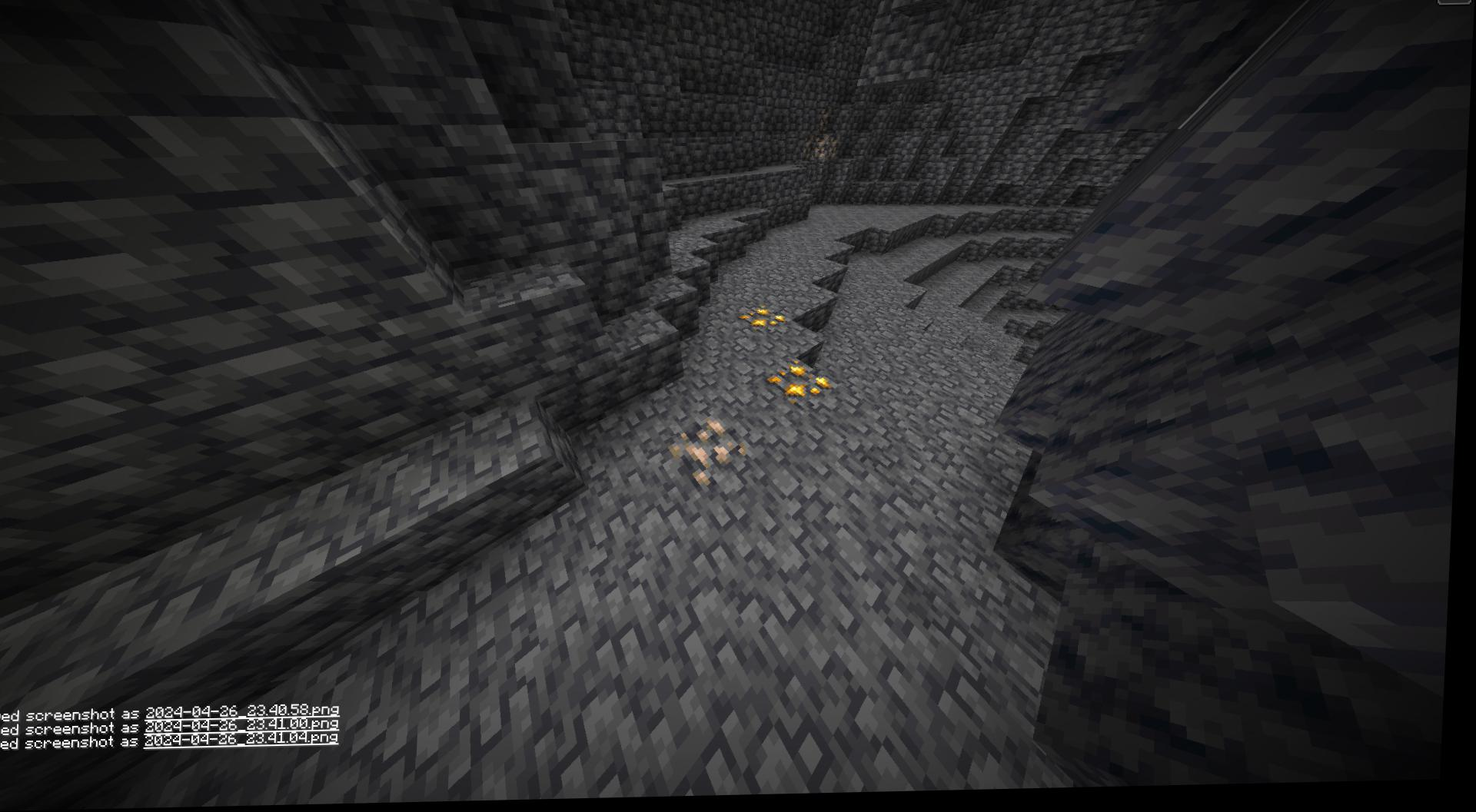gold ore: (763, 363, 840, 408), (743, 308, 794, 337)
iron ore: (674, 422, 759, 497), (803, 129, 846, 170)
